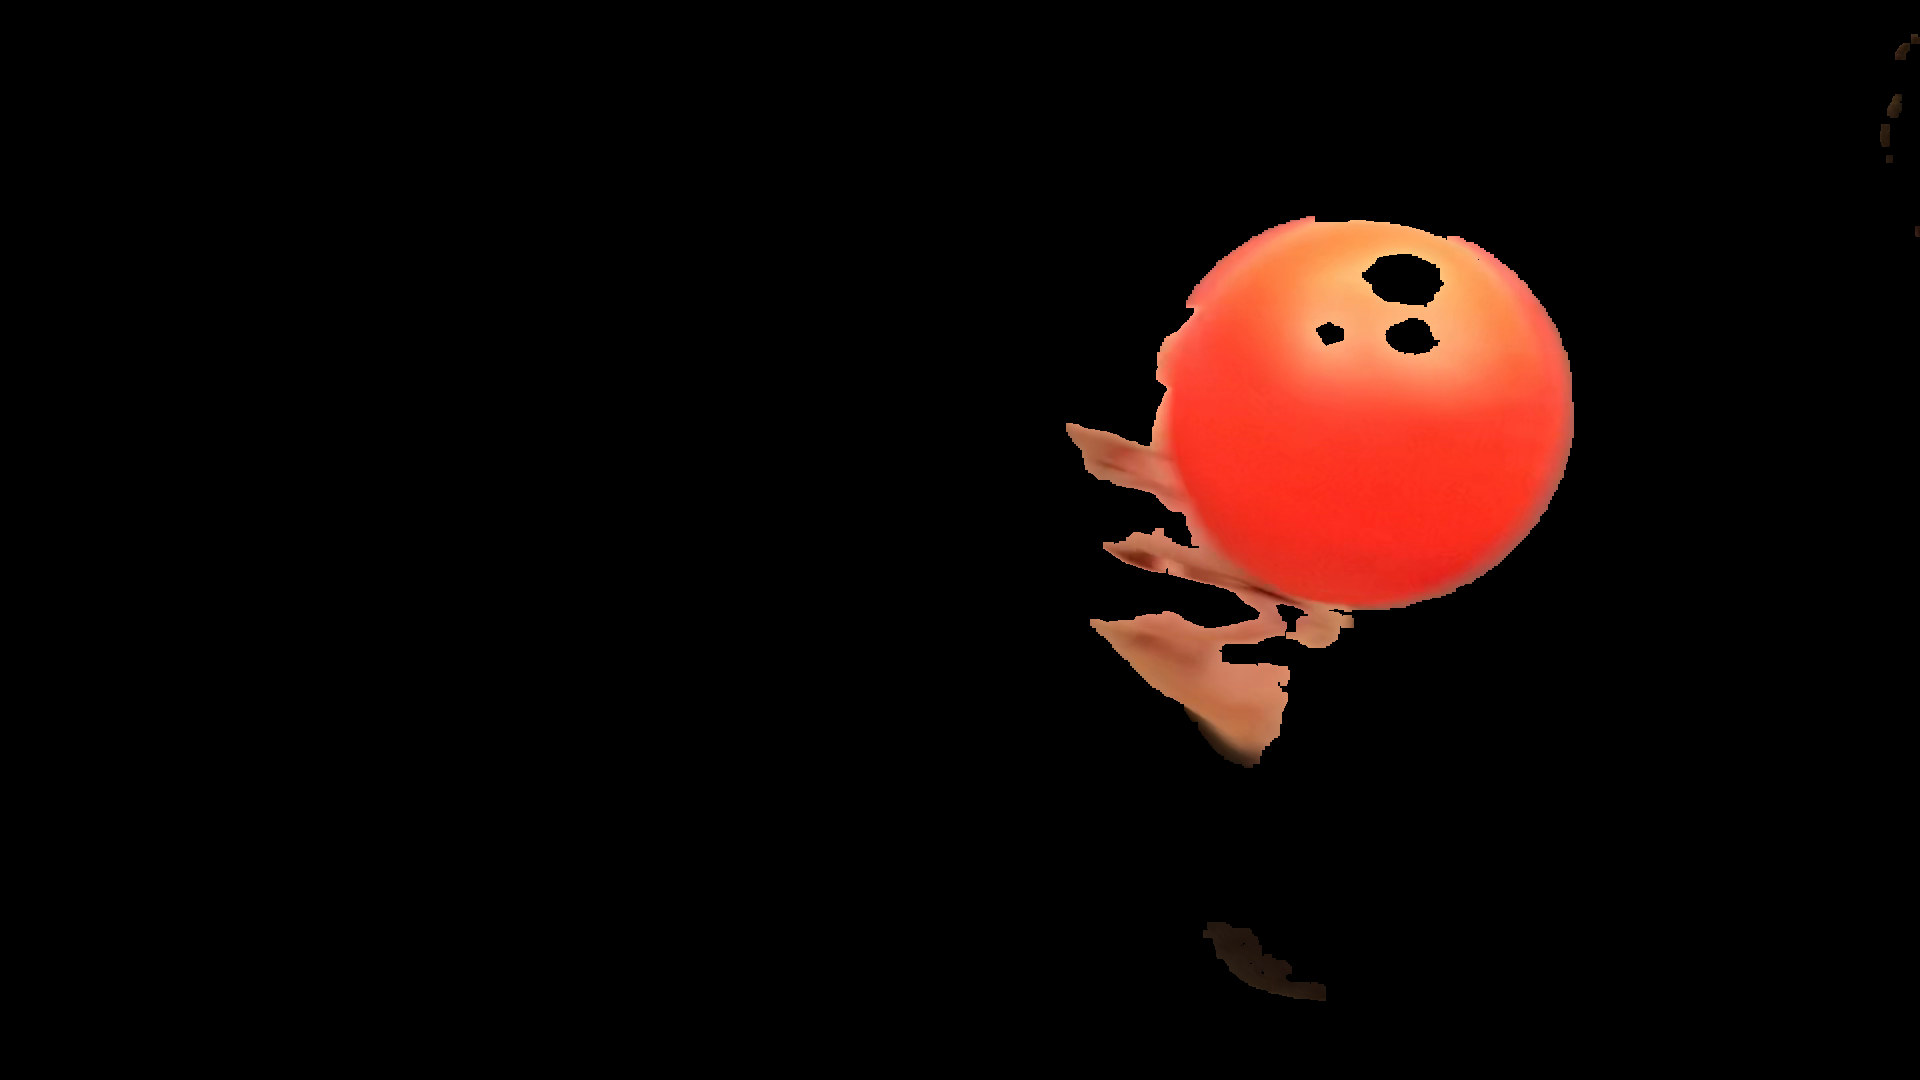Ball: (1178, 203, 1577, 615)
